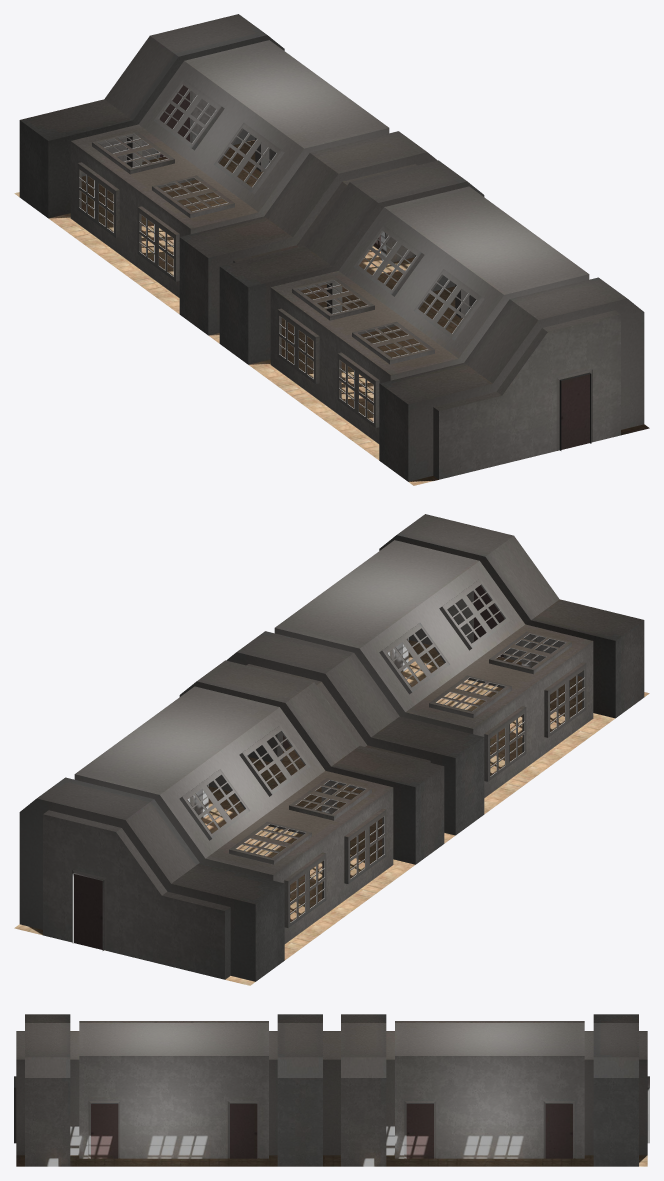
The model's file is room.glb.
The picture shows the model from 3 angles, top to bottom: view 1: azimuth 30°, elevation 25°; view 2: azimuth 150°, elevation 25°; view 3: azimuth 270°, elevation 25°; orthographic projection. The views are drawn at different scales.
Parts seen in each view (by area): view 1: Object_2, Object_3; view 2: Object_2, Object_3; view 3: Object_3, Object_2.
Boxes of the visible parts, x1=… form: Object_2: x1=20, y1=14, x2=626, y2=427; Object_3: x1=14, y1=35, x2=649, y2=485; Object_2: x1=37, y1=514, x2=643, y2=927; Object_3: x1=14, y1=535, x2=649, y2=985; Object_3: x1=14, y1=1031, x2=649, y2=1166; Object_2: x1=25, y1=1014, x2=638, y2=1077.
Size of the model in its own units: 7.4 by 3.89 by 21.86.
1 material, 1 textured.
